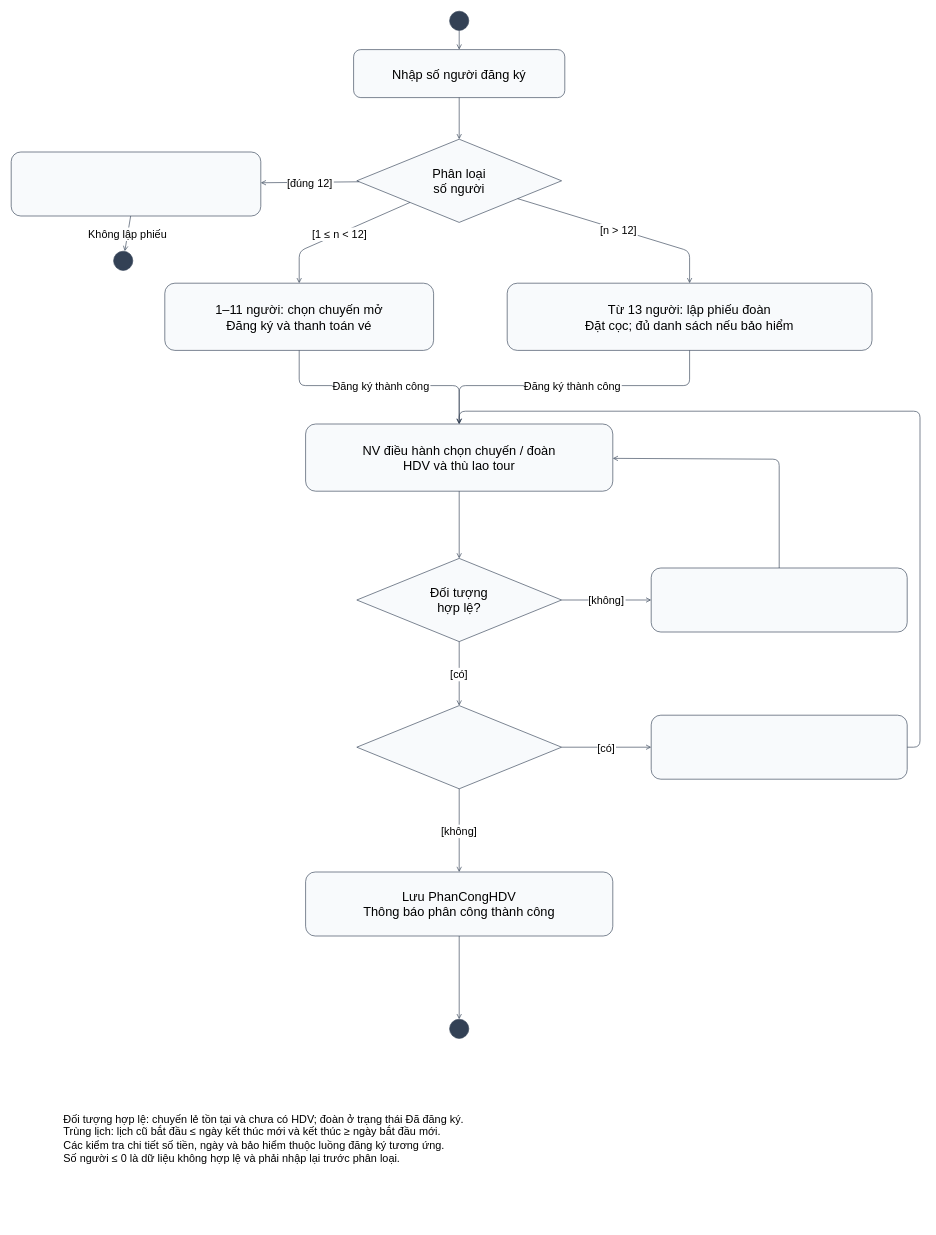
Some shapes in this 936 by 1235 pixel diagram are drawn without their labels. Here are the shapes that lost their labels. From the top down, the centre of each, then its label:
At pixel 136 183: "Từ chối theo QD01 Yêu cầu quyết định nghiệp vụ".
At pixel 779 599: "Báo lỗi đối tượng / dữ liệu Chọn lại chuyến hoặc đoàn".
At pixel 459 747: "HDV bị trùng lịch?".
At pixel 779 747: "Báo chồng chéo lịch Yêu cầu chọn lại HDV".
